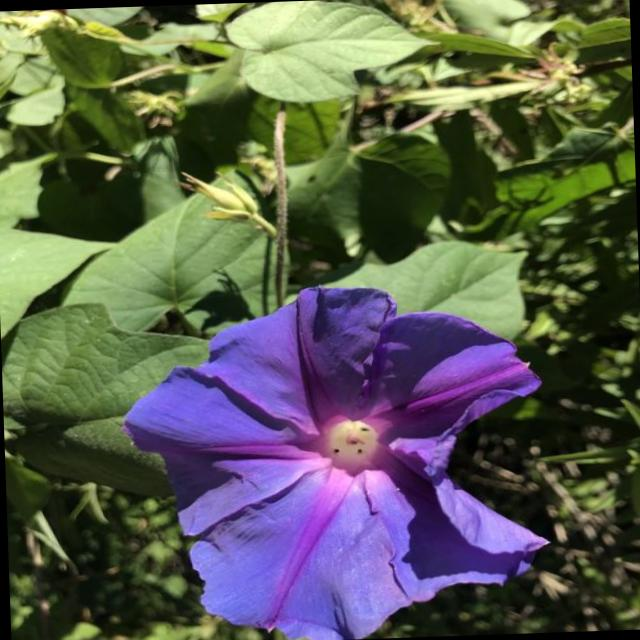ipomoea: (112, 274, 556, 640)
